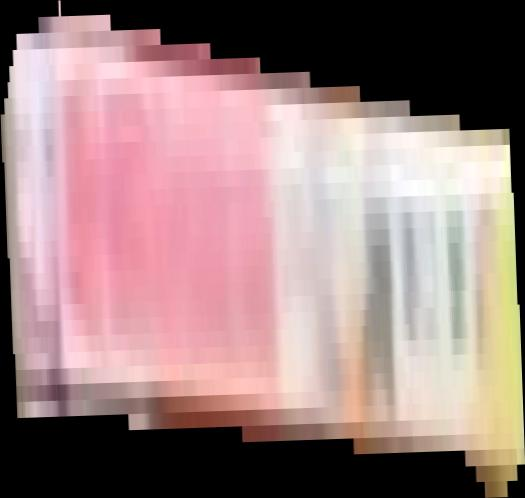flat: (1, 1, 525, 498)
